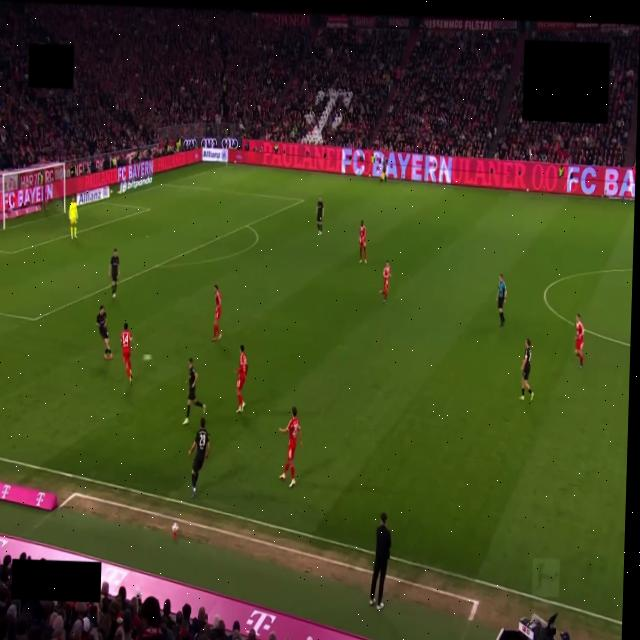ball: (143, 354, 152, 361)
player: (280, 407, 302, 487), (189, 417, 209, 497), (183, 359, 205, 424), (96, 306, 112, 359), (236, 345, 248, 413), (520, 340, 533, 401), (120, 323, 132, 383), (108, 248, 120, 299), (574, 313, 585, 368), (212, 285, 220, 341), (69, 197, 78, 239), (381, 262, 390, 303), (359, 221, 366, 263), (317, 197, 323, 235)
referee: (497, 275, 507, 326)
